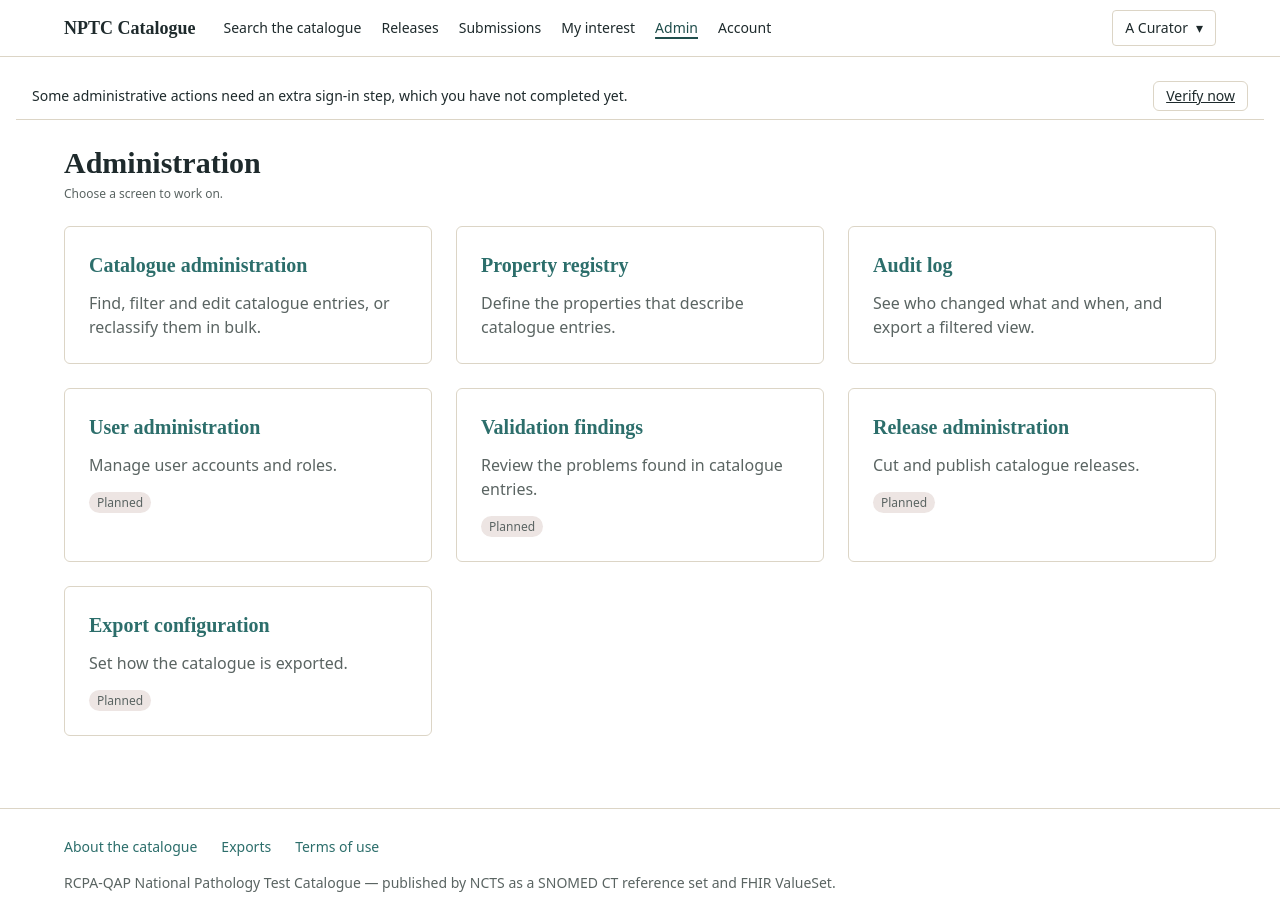
Test: StepUpBanner › stops offering to verify once a silent step-up actually invalidates the session
This screenshot has width=1280, height=900.
Click the button "Verify now" at (1201, 96), box [1153,81,1248,111]
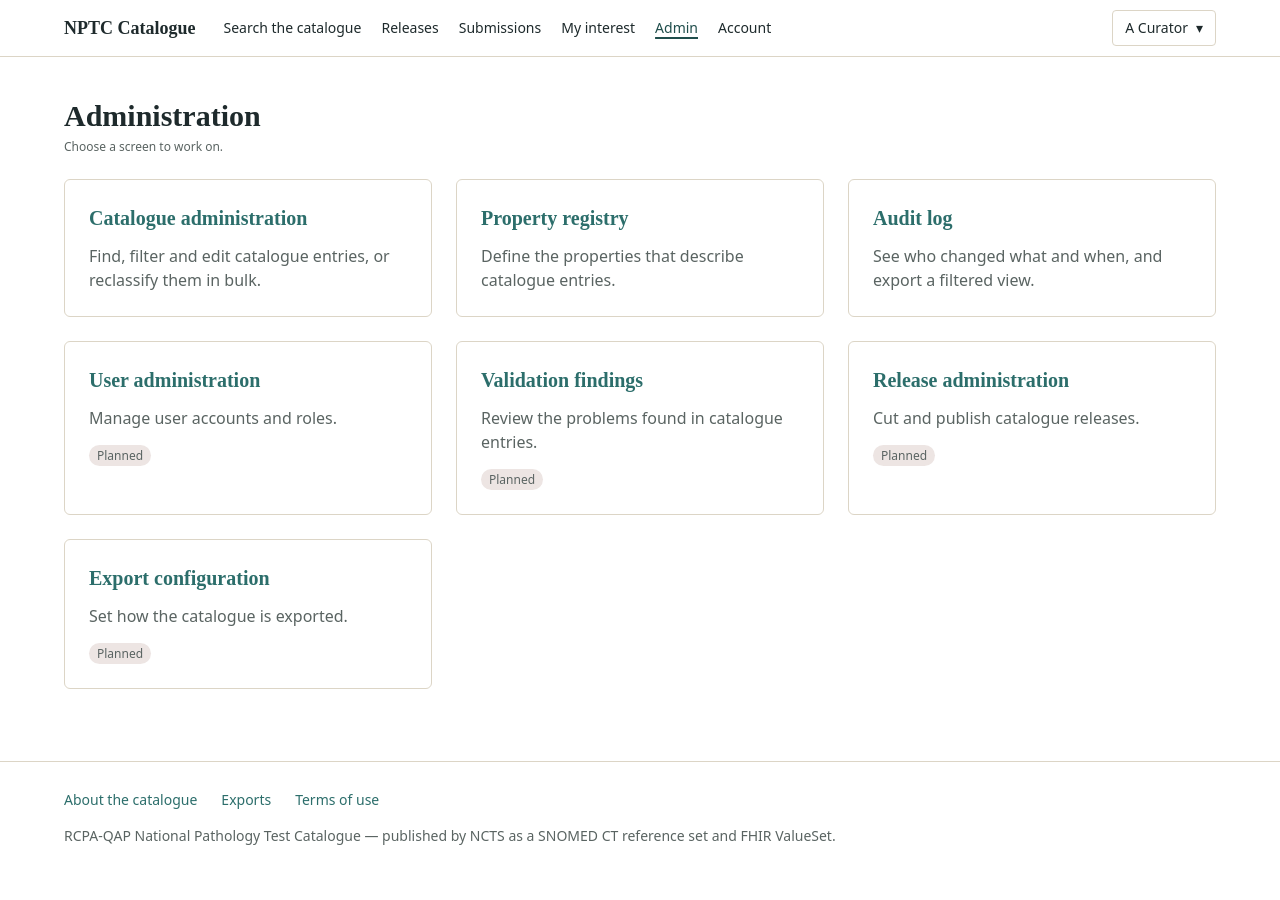
Now the message is gone
